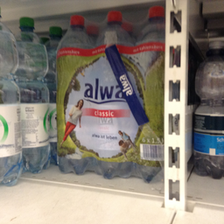water: (93, 9, 134, 180), (130, 4, 163, 187), (55, 16, 92, 173), (17, 17, 52, 173)
